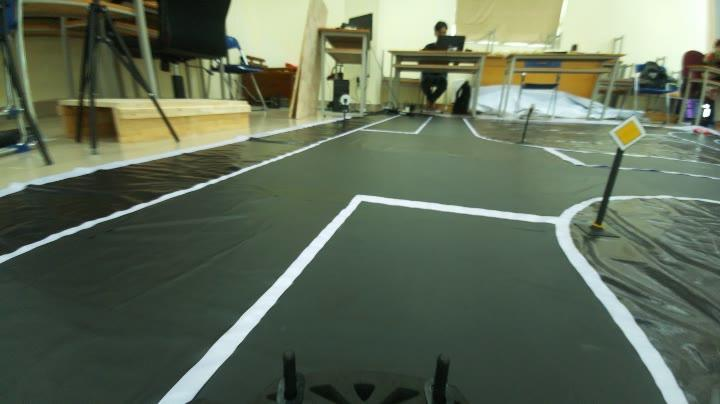priority: (606, 108, 648, 153)
